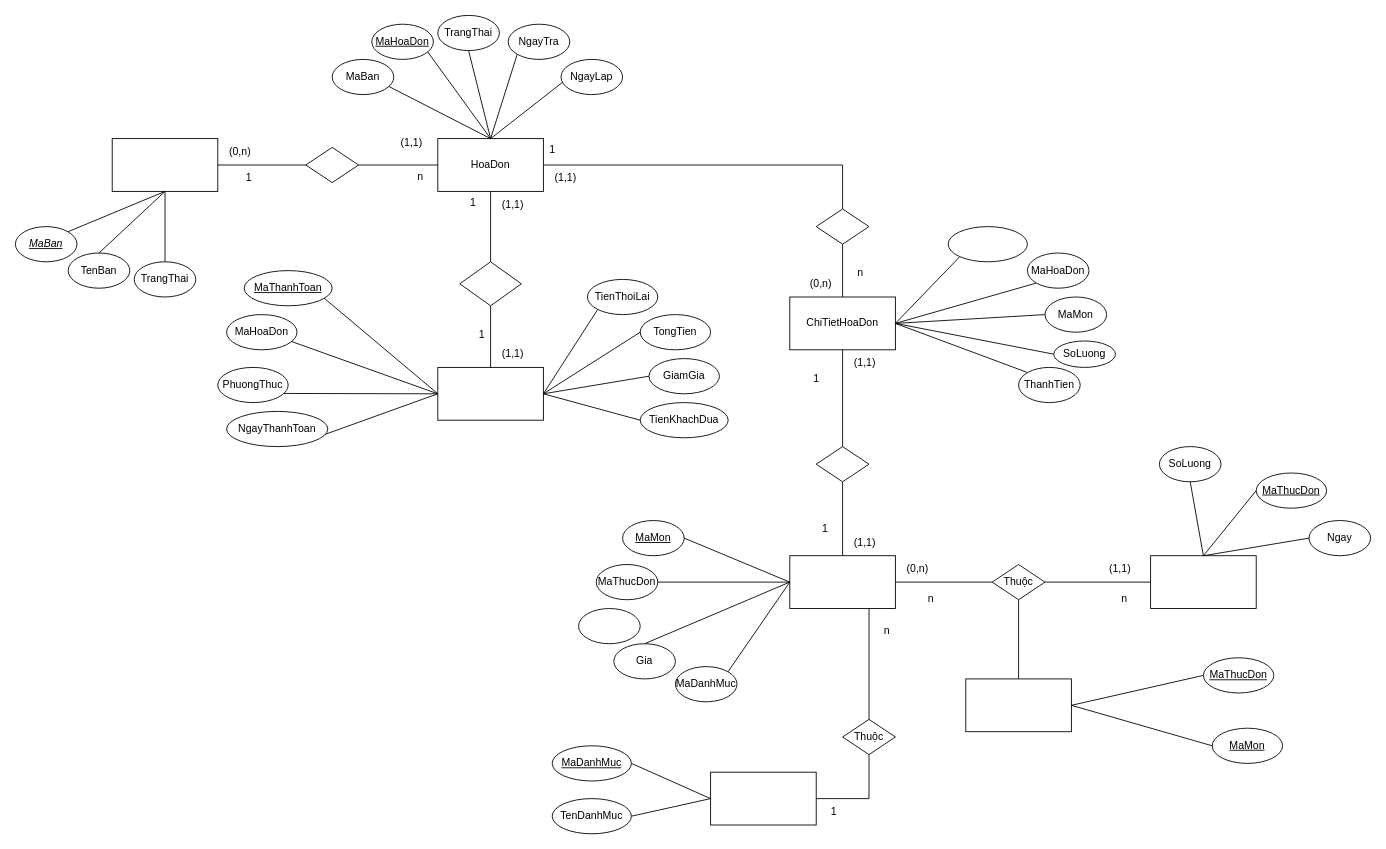
Some shapes in this 1386 by 849 pixel diagram are drawn without their labels. Here are the shapes that lost their labels. From the top down, the box of each, then its label:
(111, 138, 218, 191): Ban
(305, 147, 359, 183): Có
(815, 208, 869, 244): Gồm
(947, 226, 1027, 262): MaChiTietHD
(459, 261, 521, 306): Được
(437, 367, 543, 420): ThanhToan
(815, 446, 869, 482): Chứa
(789, 555, 895, 609): Mon
(1150, 555, 1256, 609): ThucDon
(578, 608, 640, 644): TenMon
(965, 678, 1071, 732): Mon_ThucDon
(710, 771, 816, 825): DanhMucMon
